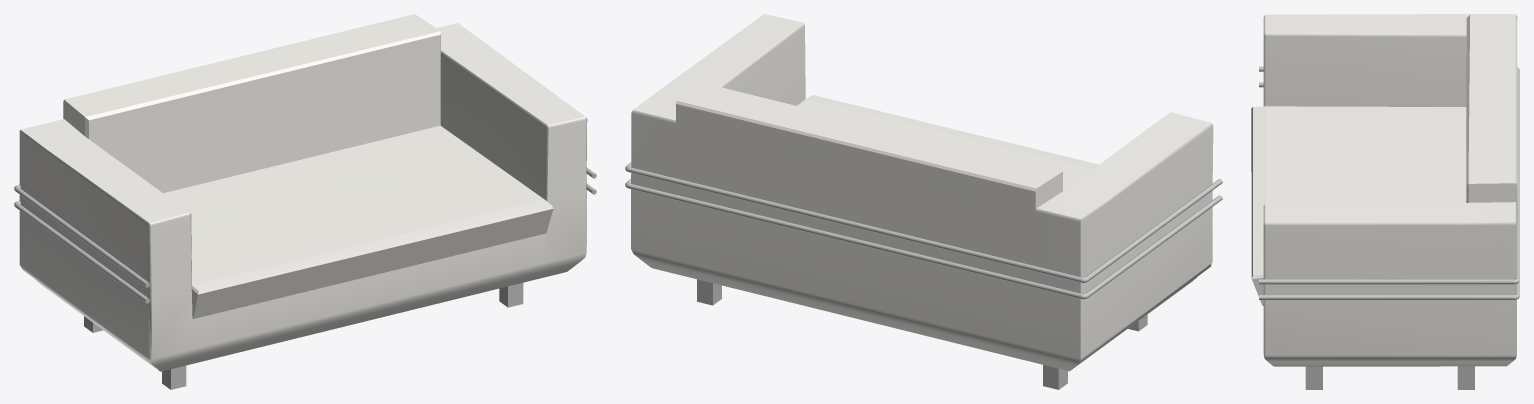
The model's file is Couch.fbx.
3 views of the same model, side by side, from view 1: azimuth 30°, elevation 25°; view 2: azimuth 150°, elevation 25°; view 3: azimuth 270°, elevation 25° (orthographic). The views are drawn at different scales.
Parts seen in each view (by area): view 1: pCube1, pasted__pasted__pCylinder1, pasted__pasted__pasted__pCylinder1, pasted__pCube2; view 2: pCube1, pasted__pasted__pasted__pCylinder1, pasted__pasted__pCylinder1, pasted__pCube3, pCube3; view 3: pCube1, pasted__pasted__pCylinder1, pasted__pasted__pasted__pCylinder1, pasted__pCube3, pasted__pCube2.
Boxes of the visible parts, x1=… form: pCube1: x1=19, y1=14, x2=587, y2=371; pasted__pasted__pCylinder1: x1=14, y1=167, x2=596, y2=287; pasted__pasted__pasted__pCylinder1: x1=14, y1=183, x2=596, y2=303; pasted__pCube2: x1=499, y1=283, x2=523, y2=307; pCube1: x1=631, y1=14, x2=1213, y2=371; pasted__pasted__pasted__pCylinder1: x1=625, y1=179, x2=1222, y2=299; pasted__pasted__pCylinder1: x1=625, y1=162, x2=1222, y2=282; pasted__pCube3: x1=697, y1=279, x2=721, y2=305; pCube3: x1=1043, y1=365, x2=1067, y2=389; pCube1: x1=1251, y1=14, x2=1517, y2=366; pasted__pasted__pCylinder1: x1=1259, y1=66, x2=1519, y2=284; pasted__pasted__pasted__pCylinder1: x1=1259, y1=82, x2=1519, y2=299; pasted__pCube3: x1=1457, y1=366, x2=1474, y2=389; pasted__pCube2: x1=1305, y1=366, x2=1322, y2=389.
Size of the model in its own units: 2.01 by 0.8993 by 1.06.
